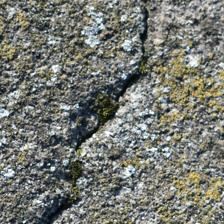Crack: (5, 22, 150, 81), (42, 0, 115, 102)
